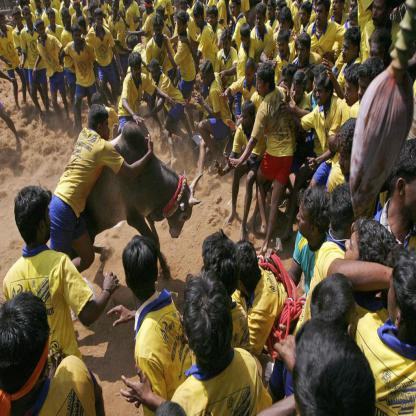face: (345, 232, 359, 269), (297, 205, 312, 238), (39, 205, 52, 241), (359, 78, 373, 107), (370, 42, 384, 68), (373, 1, 387, 27), (345, 82, 357, 107), (340, 150, 352, 174), (291, 82, 303, 105), (343, 38, 354, 63), (317, 86, 329, 107), (313, 77, 323, 99), (317, 6, 327, 26), (350, 1, 360, 19), (299, 44, 308, 64), (257, 77, 266, 96), (242, 112, 251, 130), (103, 119, 110, 142), (245, 68, 254, 85), (283, 76, 291, 95), (256, 14, 265, 30), (177, 18, 185, 36), (134, 64, 142, 82), (333, 1, 343, 15), (306, 75, 313, 95), (301, 8, 309, 25), (203, 72, 212, 87), (279, 40, 287, 56), (223, 39, 231, 55), (152, 66, 160, 82), (155, 25, 163, 40), (64, 12, 72, 27), (38, 25, 46, 39), (243, 35, 251, 48), (280, 21, 288, 34), (195, 14, 202, 28), (157, 12, 164, 25), (16, 16, 23, 29), (74, 32, 81, 45), (276, 6, 282, 20), (232, 3, 238, 17), (132, 41, 139, 53), (25, 11, 32, 23), (268, 7, 274, 20), (181, 3, 187, 16), (97, 16, 103, 29), (210, 14, 216, 26), (113, 3, 119, 15), (50, 15, 56, 26), (75, 2, 81, 13), (93, 9, 98, 22), (45, 1, 52, 10), (146, 4, 151, 15), (35, 1, 41, 10), (89, 20, 93, 30), (79, 25, 83, 34), (175, 3, 179, 11), (85, 1, 89, 9), (123, 1, 128, 7), (141, 1, 144, 9)
